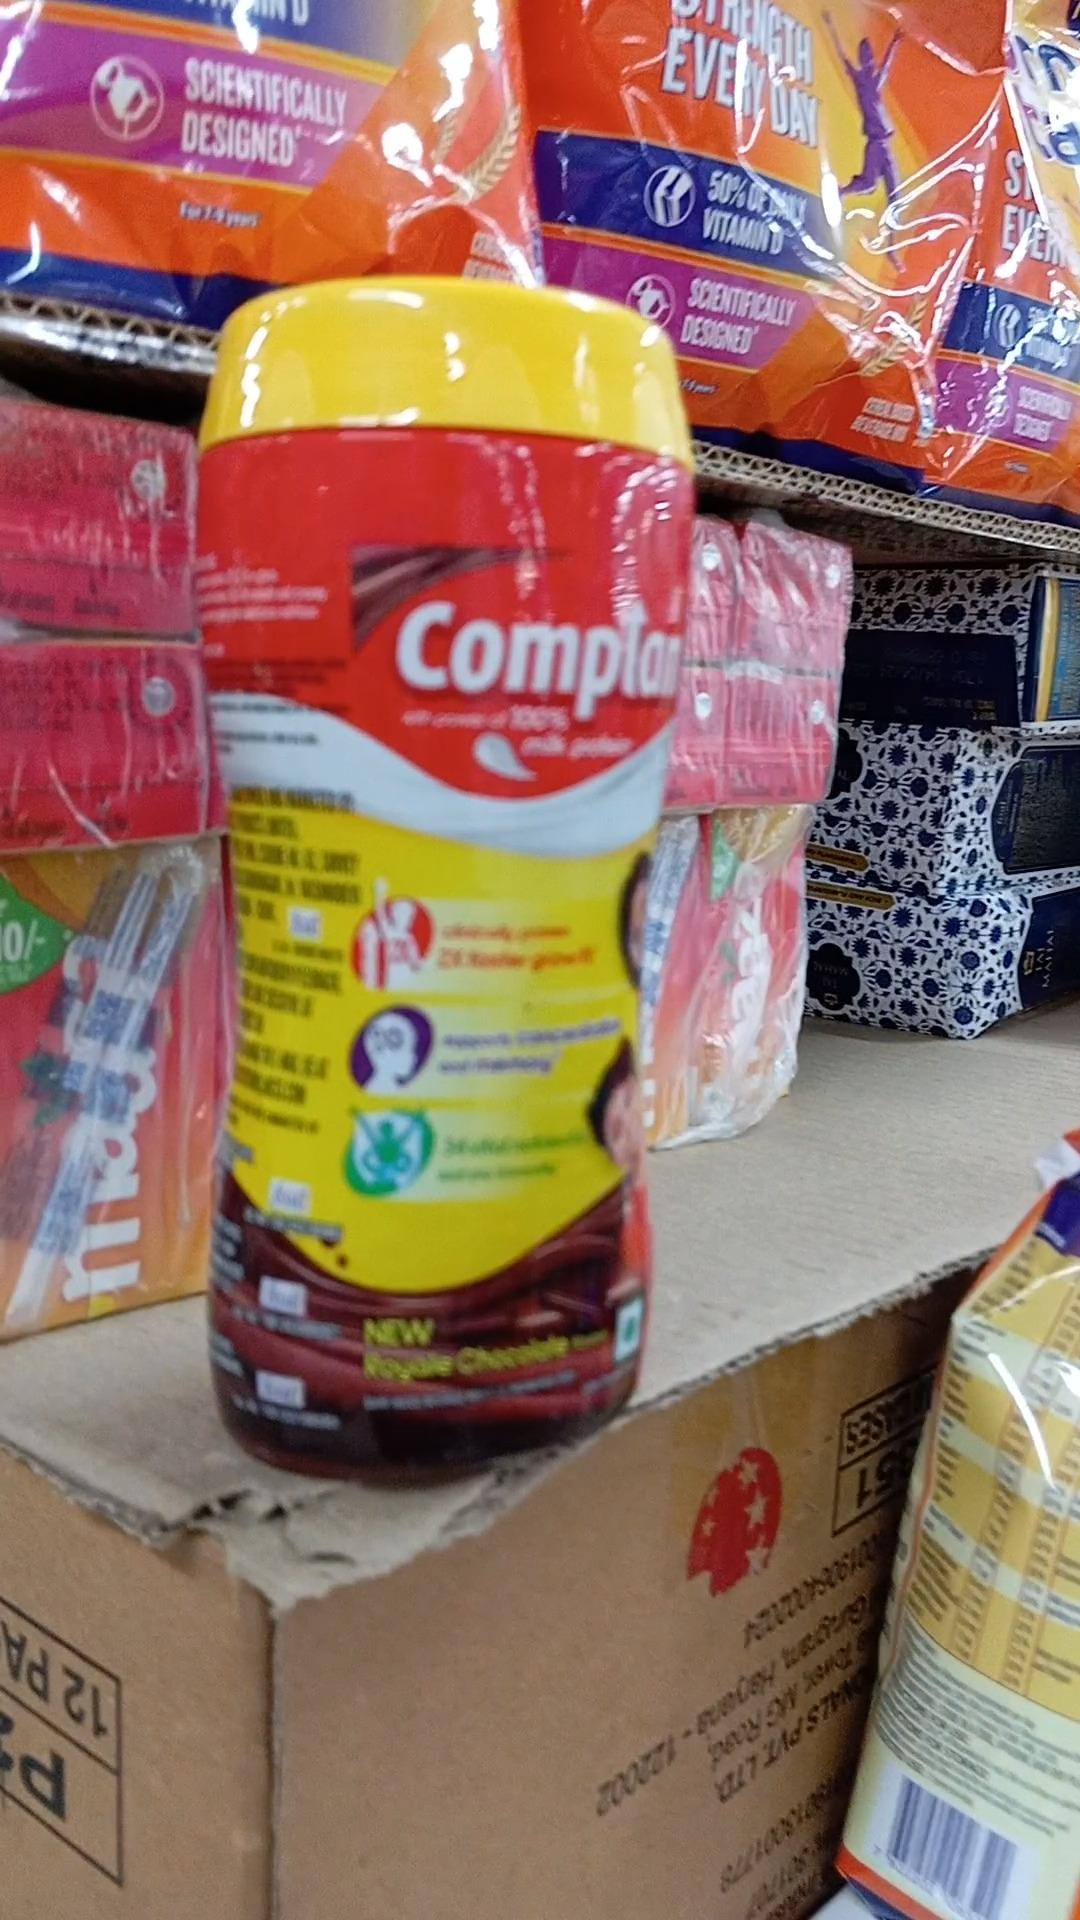COMPLAN_CHOCOLATE_200_GMS_JAR: (210, 276, 665, 1465)
